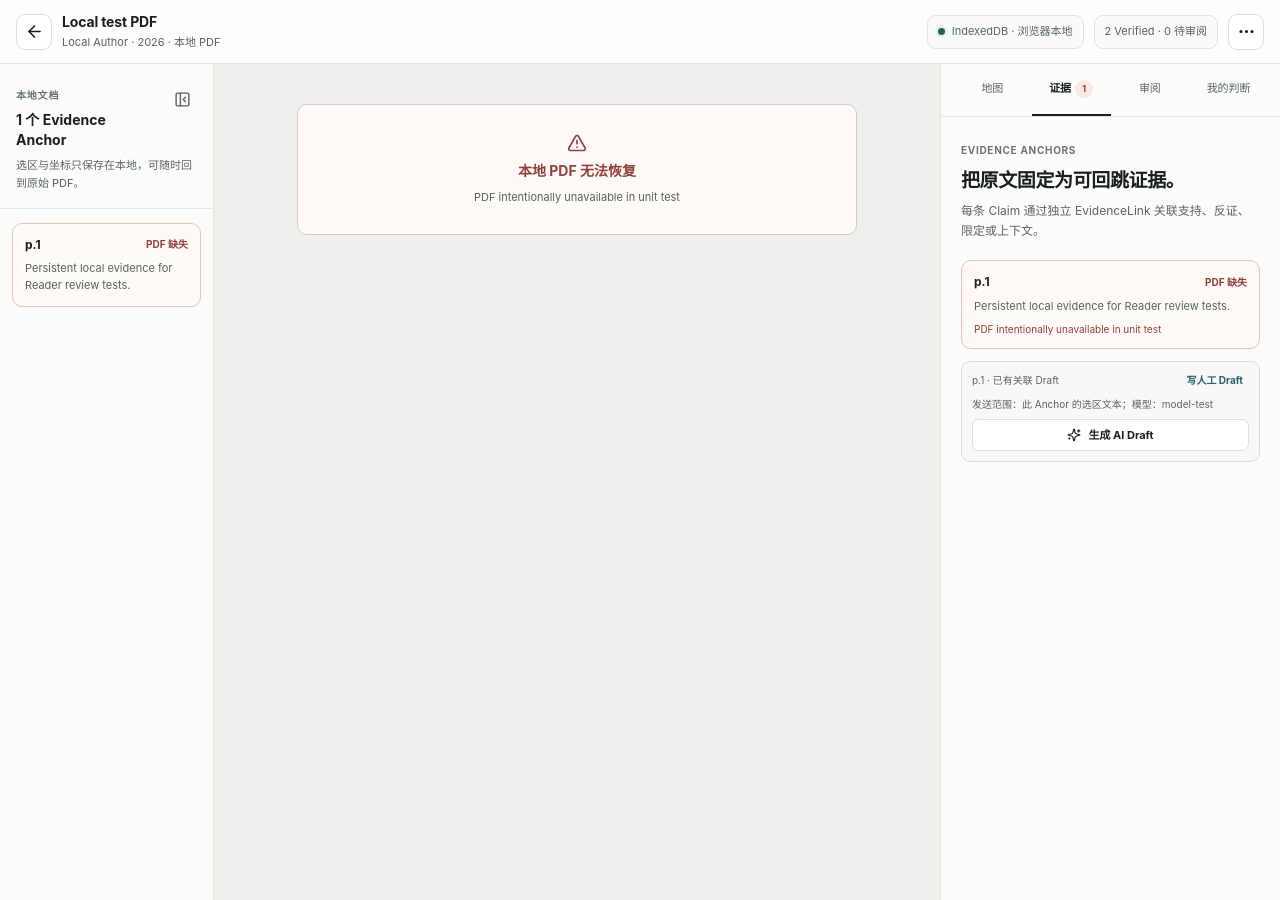
Test: Reader persisted review UI › restores provenance and keeps the original Edited Draft visible
Click the tab "审阅".
click(1150, 90)  # box 1110,64 -> 1189,116
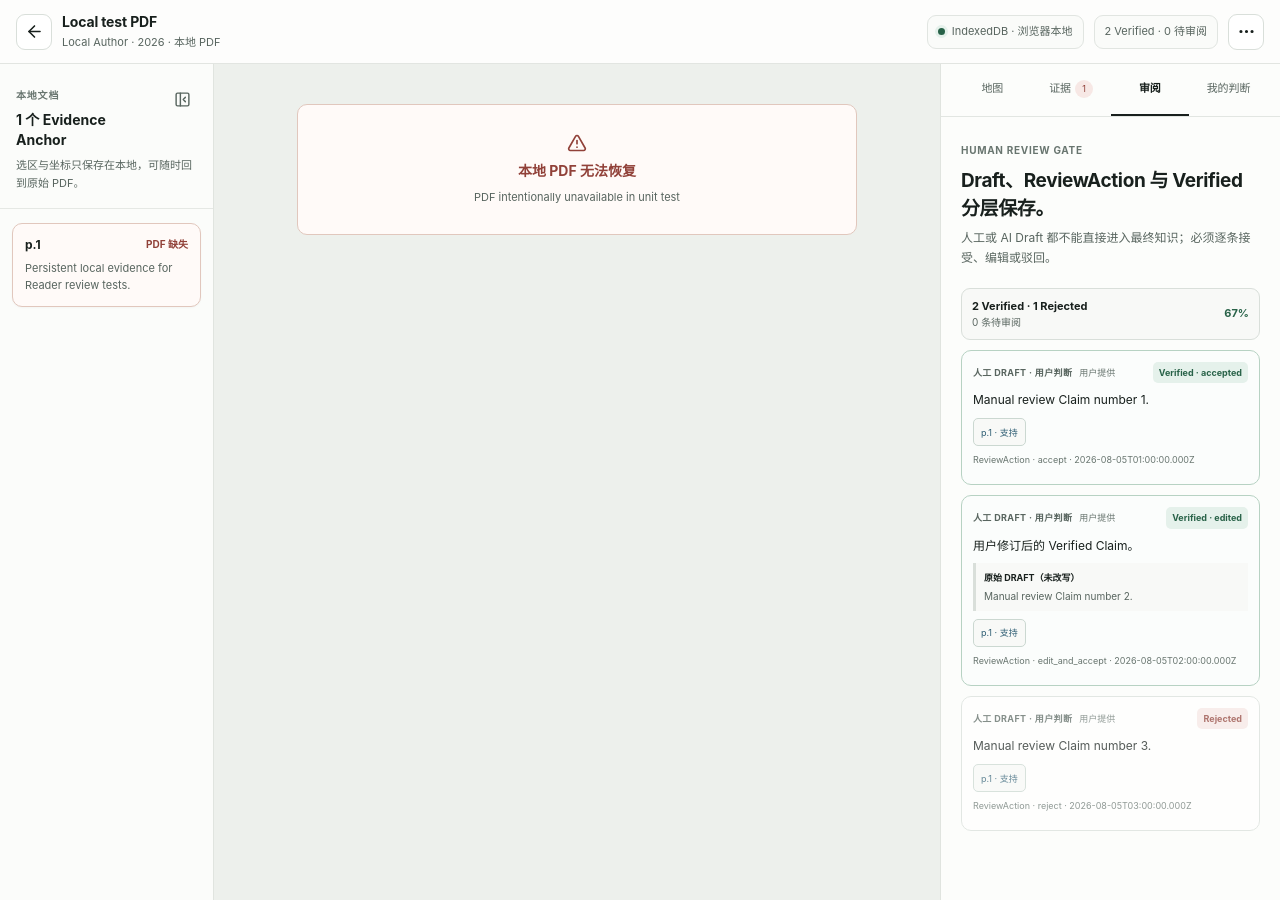
Now the text "Verified · accepted" is shown, box 1153,362 -> 1248,383
Now the text "Verified · edited" is shown, box 1166,508 -> 1248,528
Now the text "Rejected" is shown, box 1198,708 -> 1248,729
